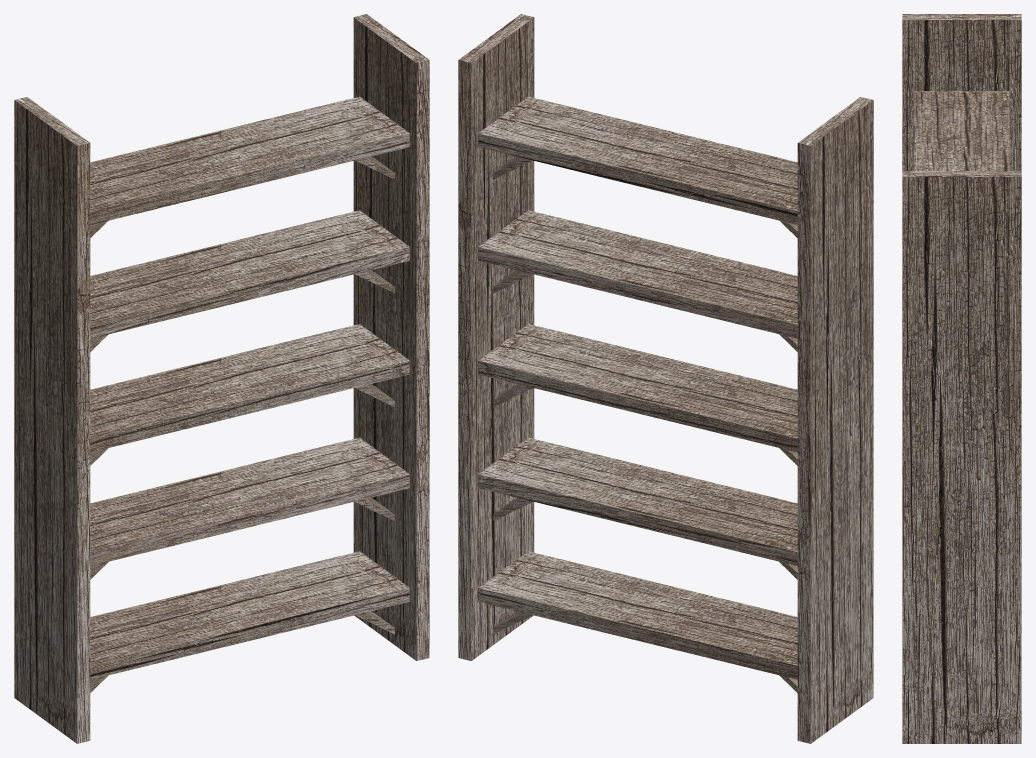
The model's file is Bookshelf.FBX.
The picture shows the model from 3 angles, left to right: view 1: azimuth 30°, elevation 25°; view 2: azimuth 150°, elevation 25°; view 3: azimuth 270°, elevation 25°; orthographic projection. The views are drawn at different scales.
Visible parts, largest first — view 1: Box001, Box002, Box003, Box005, Box006, Box004, Box007; view 2: Box001, Box002, Box003, Box005, Box006, Box004, Box007; view 3: Box002, Box001, Box007.
Part boxes in pixels (box(x1,y1,x2,y2)): Box001: box(14, 97, 90, 743); Box002: box(353, 14, 429, 660); Box003: box(90, 551, 409, 679); Box005: box(90, 324, 409, 452); Box006: box(90, 210, 409, 338); Box004: box(90, 437, 409, 565); Box007: box(90, 96, 409, 224); Box001: box(797, 97, 873, 743); Box002: box(458, 14, 534, 660); Box003: box(478, 551, 797, 679); Box005: box(478, 324, 797, 452); Box006: box(478, 210, 797, 338); Box004: box(478, 437, 797, 565); Box007: box(478, 96, 797, 224); Box002: box(902, 171, 1021, 743); Box001: box(902, 14, 1021, 170); Box007: box(914, 91, 1009, 170).
Bounding box in the file's own units: 42.99 × 69.66 × 13.29.
2 materials, 2 textured.
